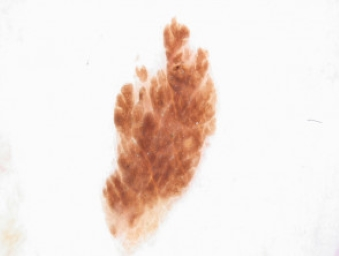seborrheic keratosis: (95, 15, 224, 256)
